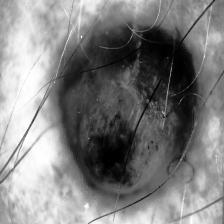Benign Marking or Mole: (55, 19, 195, 194)
